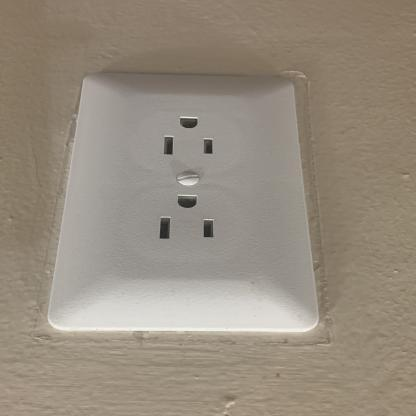OUTLET: (46, 73, 321, 335)
